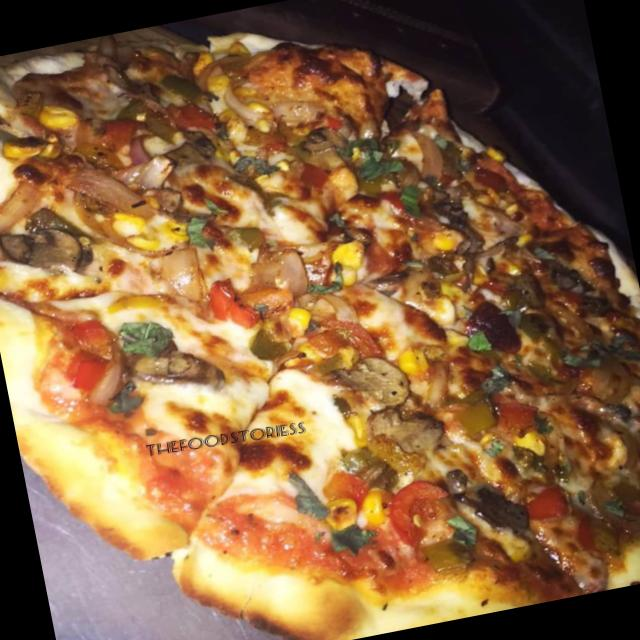mushrooms: (309, 354, 413, 415), (0, 208, 93, 276), (367, 410, 446, 468), (128, 352, 229, 395), (149, 132, 218, 173), (302, 126, 353, 159)
pizza: (0, 27, 640, 640)
